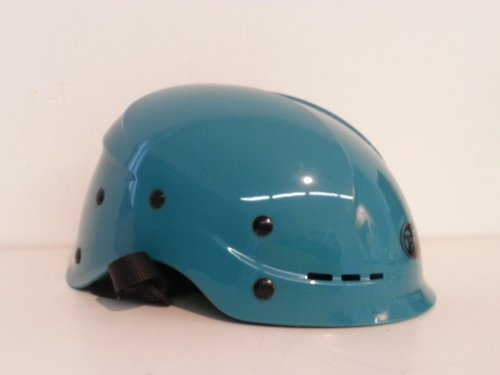elmetto: (44, 66, 448, 338)
